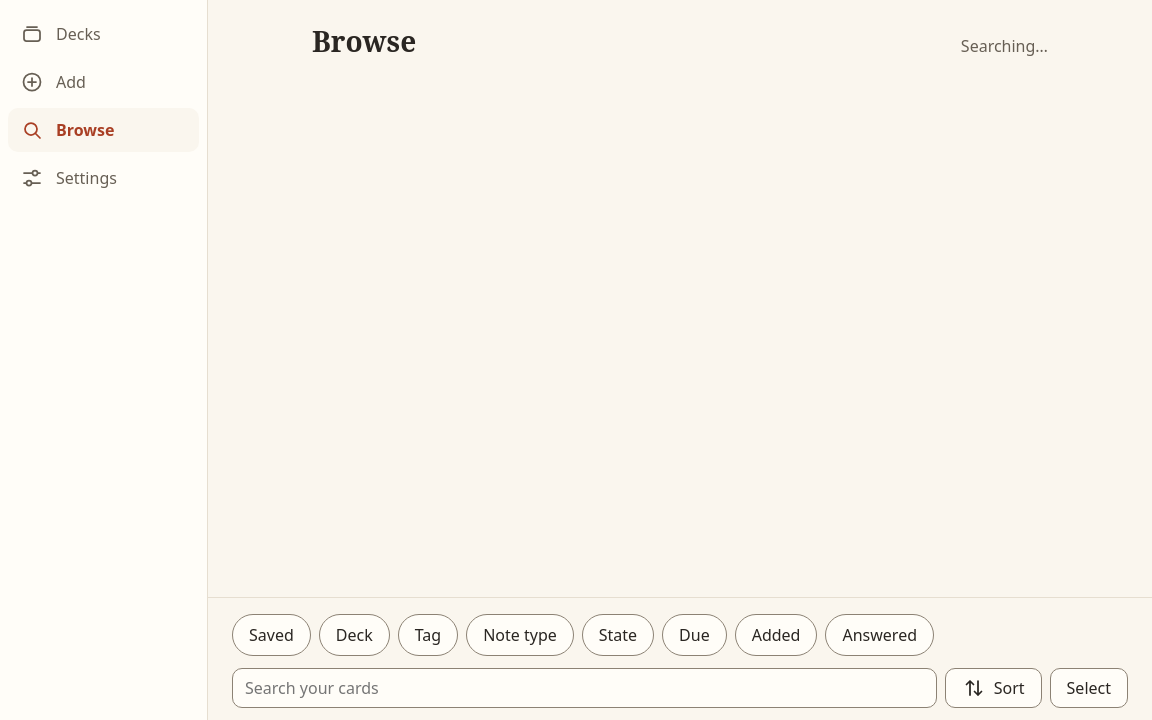
Test case: Saved searches › a saved query typed by hand opens with everything in the box
Click the button "Saved" at (271, 635), box [233,615,310,655]
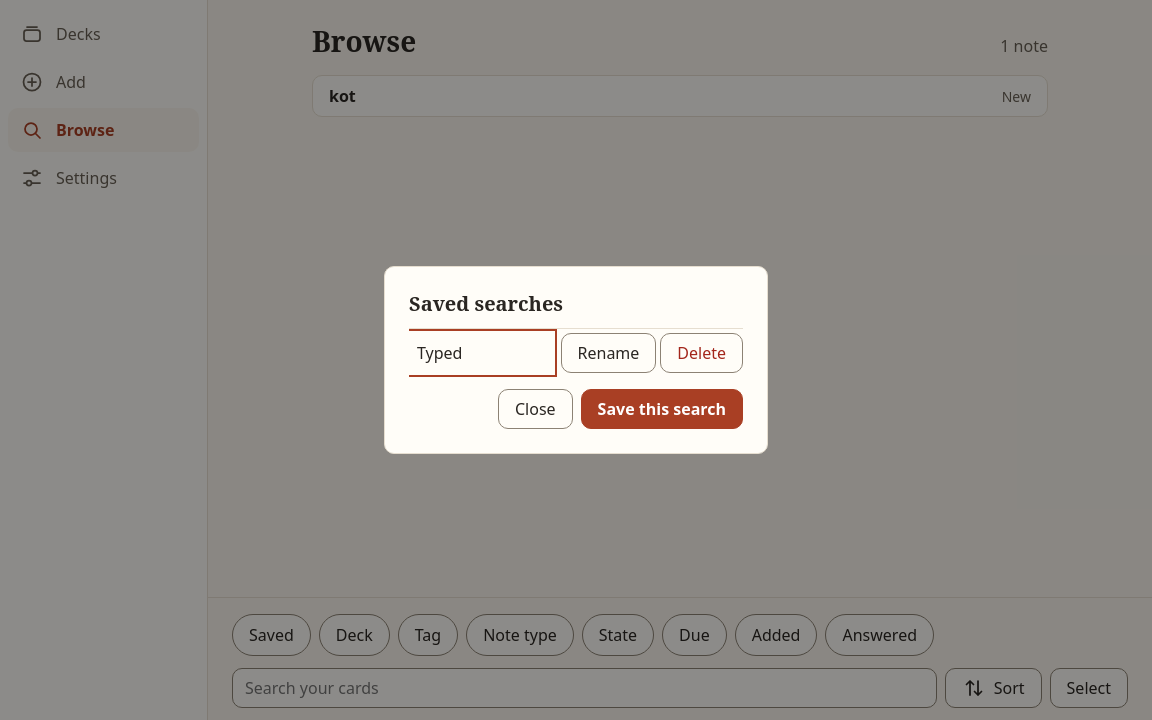
Click the button "Typed" at (481, 353), box [409,333,552,373]
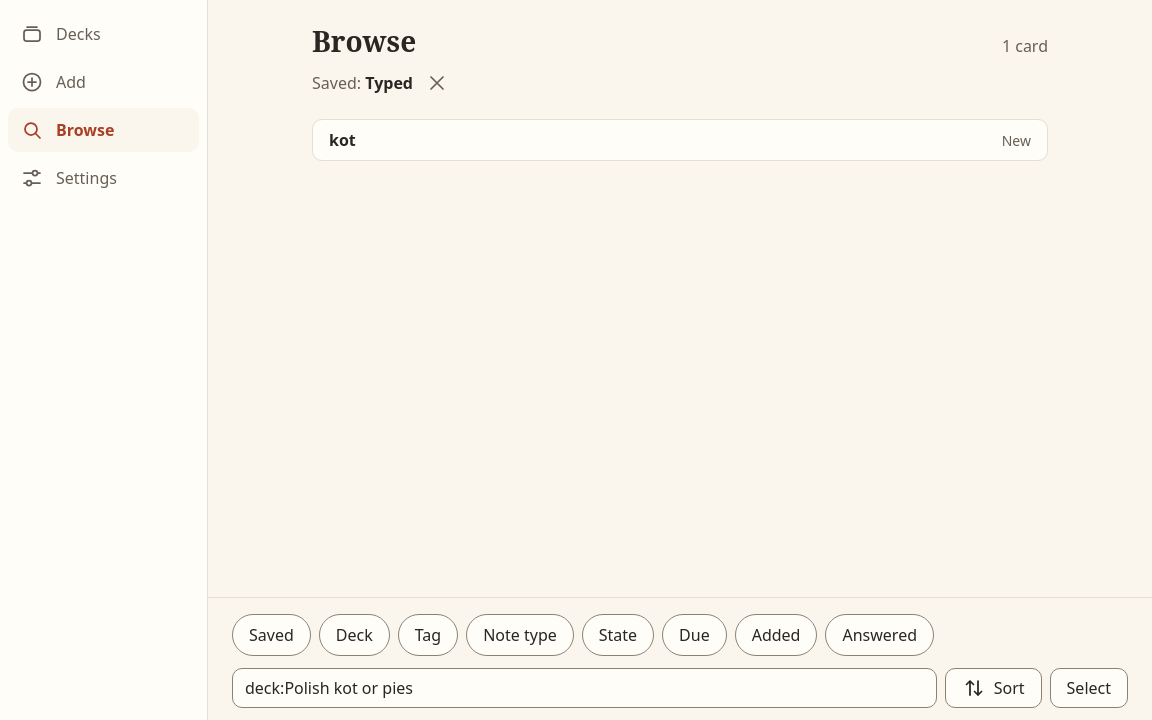
Expected: the button with aria-label "Deck: any" is shown, [320,615,389,655]
Now the search field named "Search your cards" holds "deck:Polish kot or pies", box [232,668,937,708]
Now the element showing "Saved: Typed" is shown, box [312,71,413,95]
